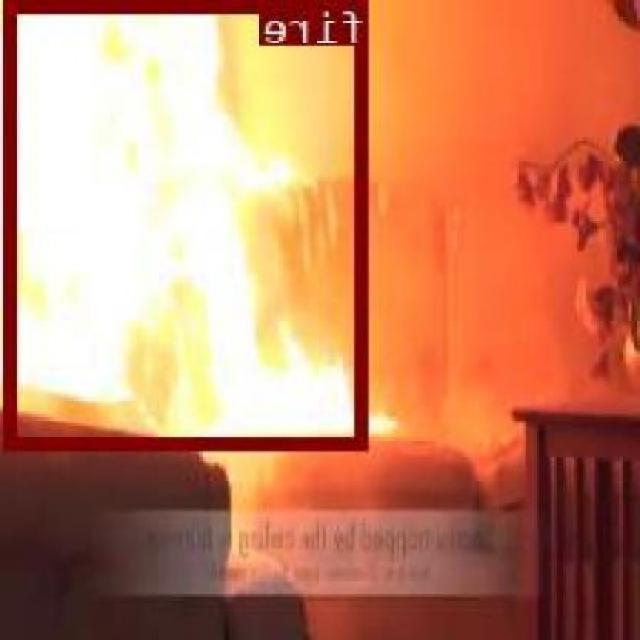Fire: (0, 0, 362, 465)
Smoke: (347, 0, 640, 467)
